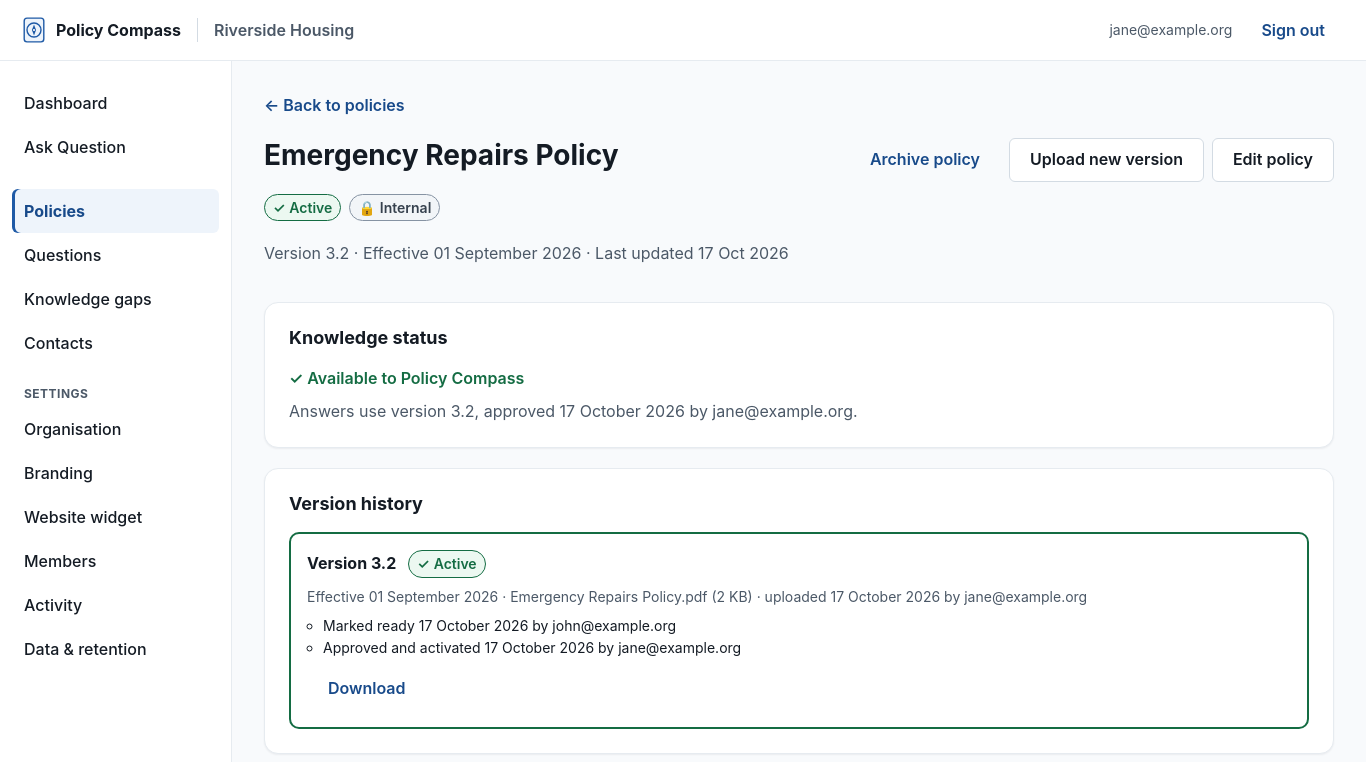
Scenario: Policy detail › edits policy details
The width and height of the screenshot is (1366, 762).
Click the button "Edit policy": (1273, 160) [1212,138,1334,182]
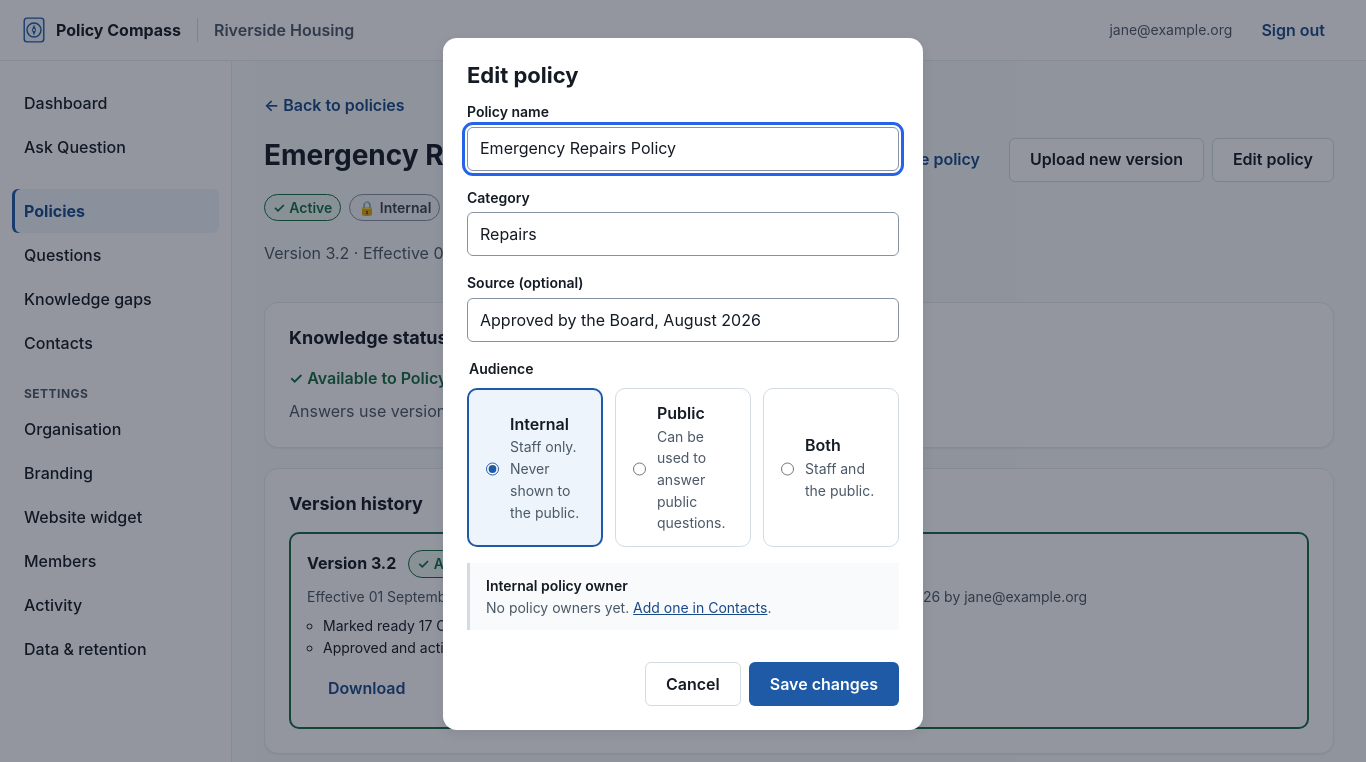
Replace the text in the field labelled "Policy name" with "Emergency Repairs": (683, 149) [467,127,899,171]
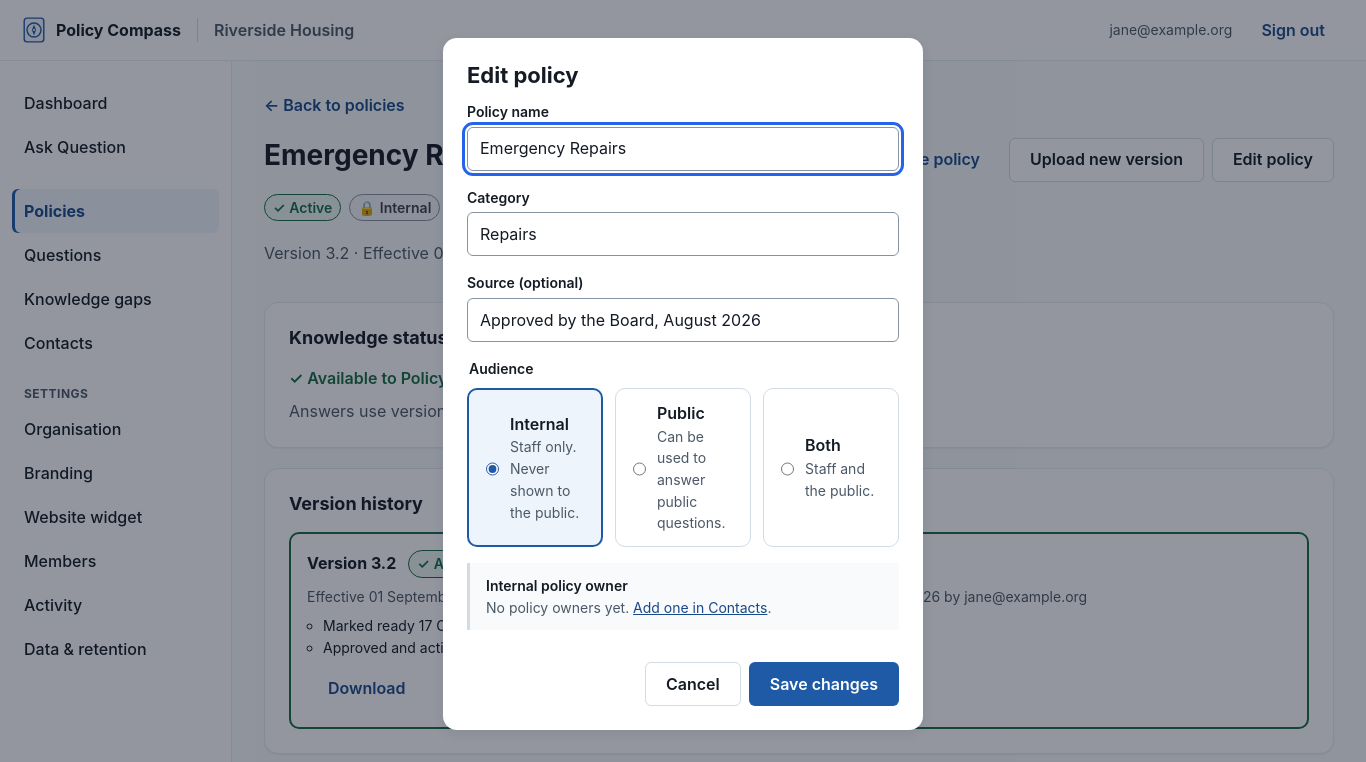
Replace the text in the field labelled "Category" with "Maintenance": (683, 234) [467,212,899,256]
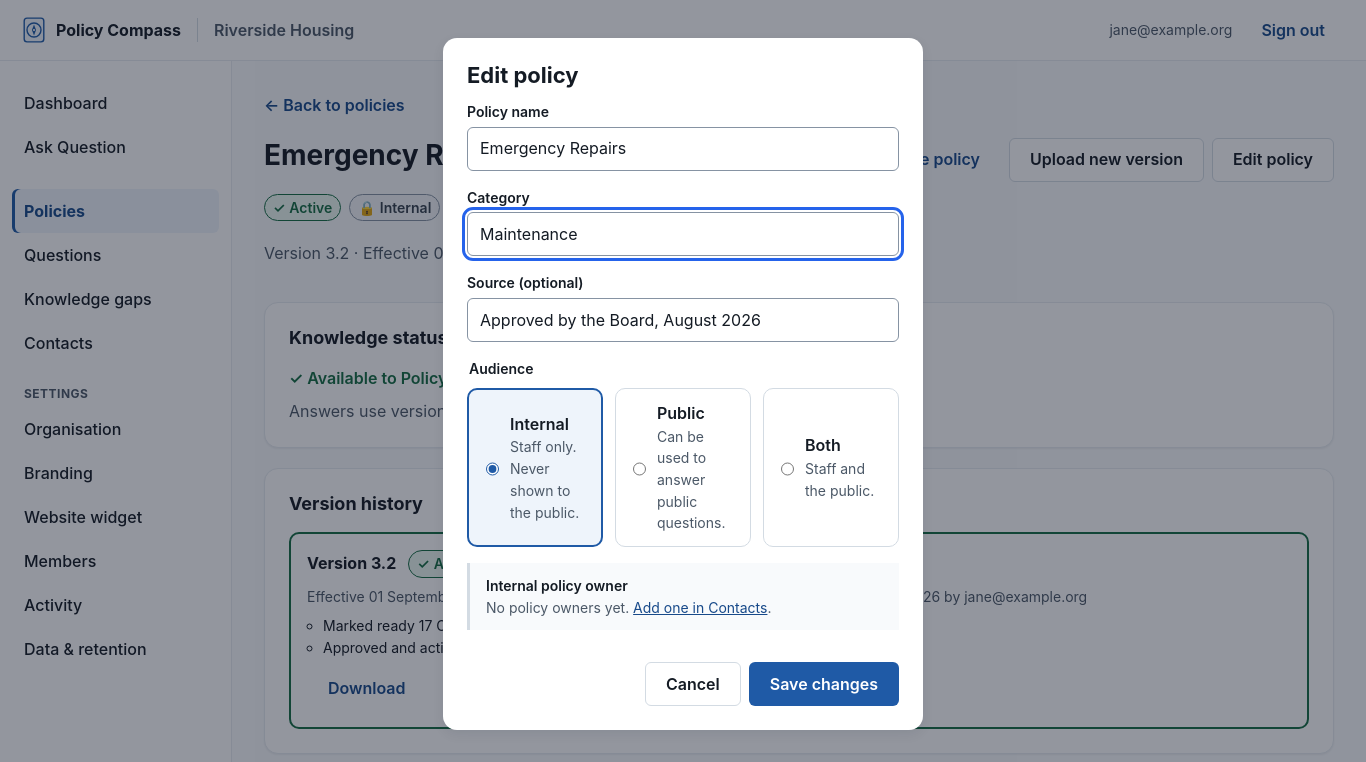
Click the button "Save changes": (824, 684) [749,662,899,706]
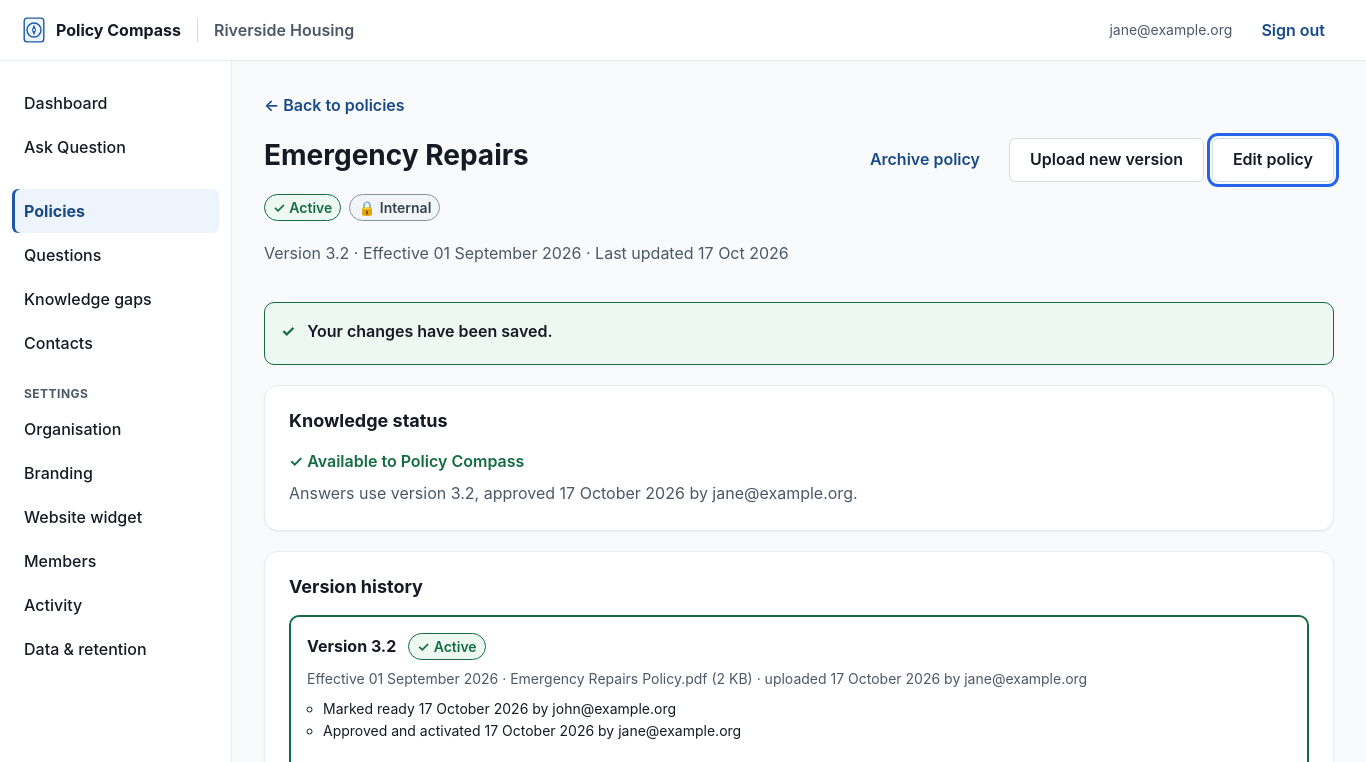
Expected: the heading "Emergency Repairs" is shown, [264,138,529,173]
Result: the text "Your changes have been saved." is shown at [307,319,553,344]
